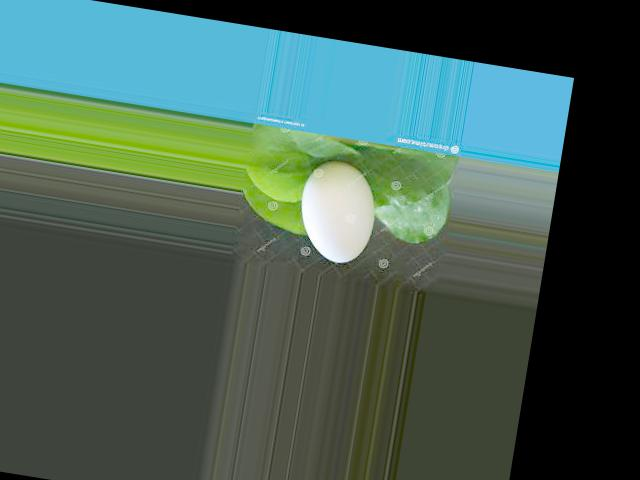egg: (292, 157, 382, 266)
